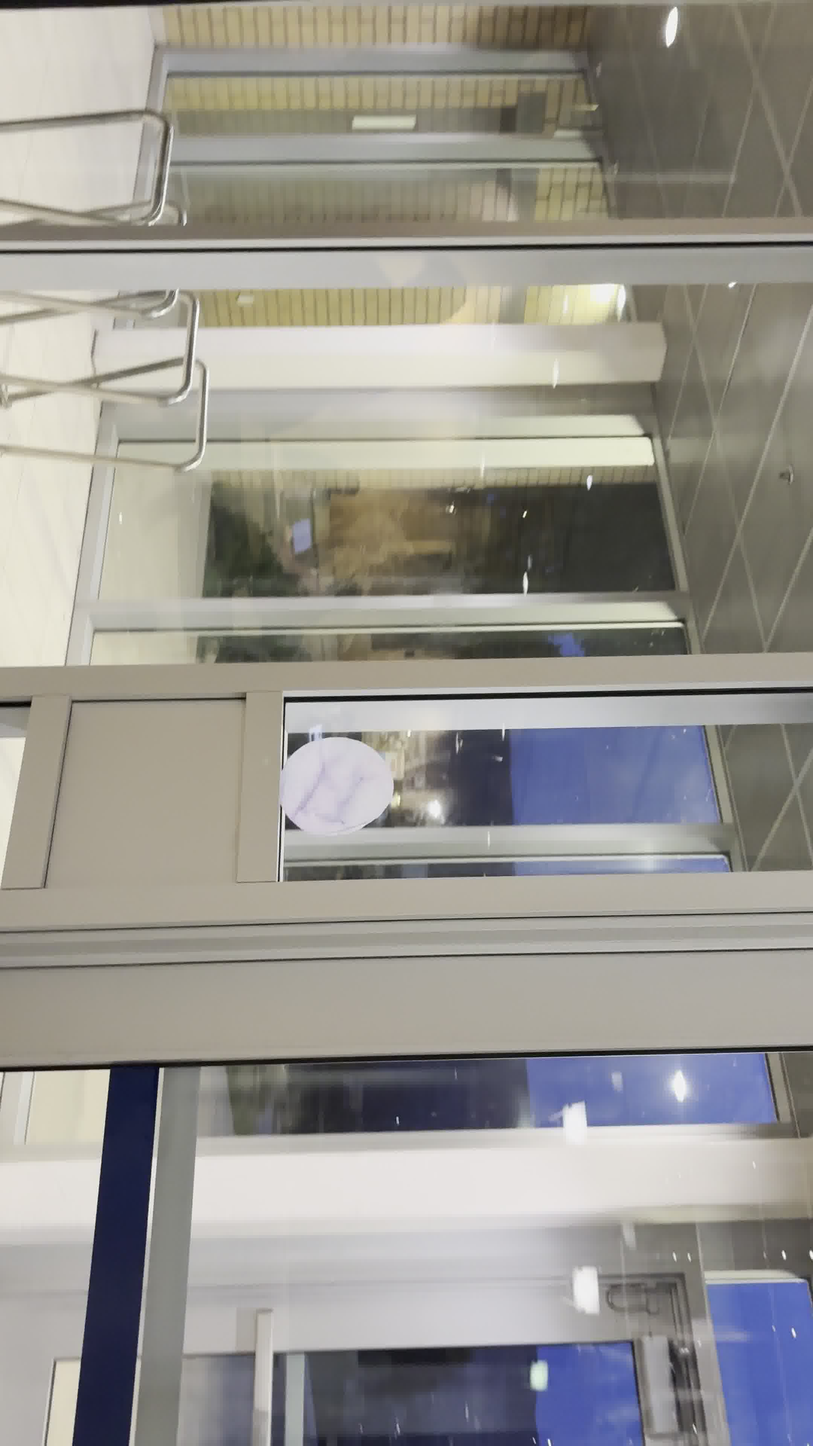Target: (277, 736, 395, 838)
